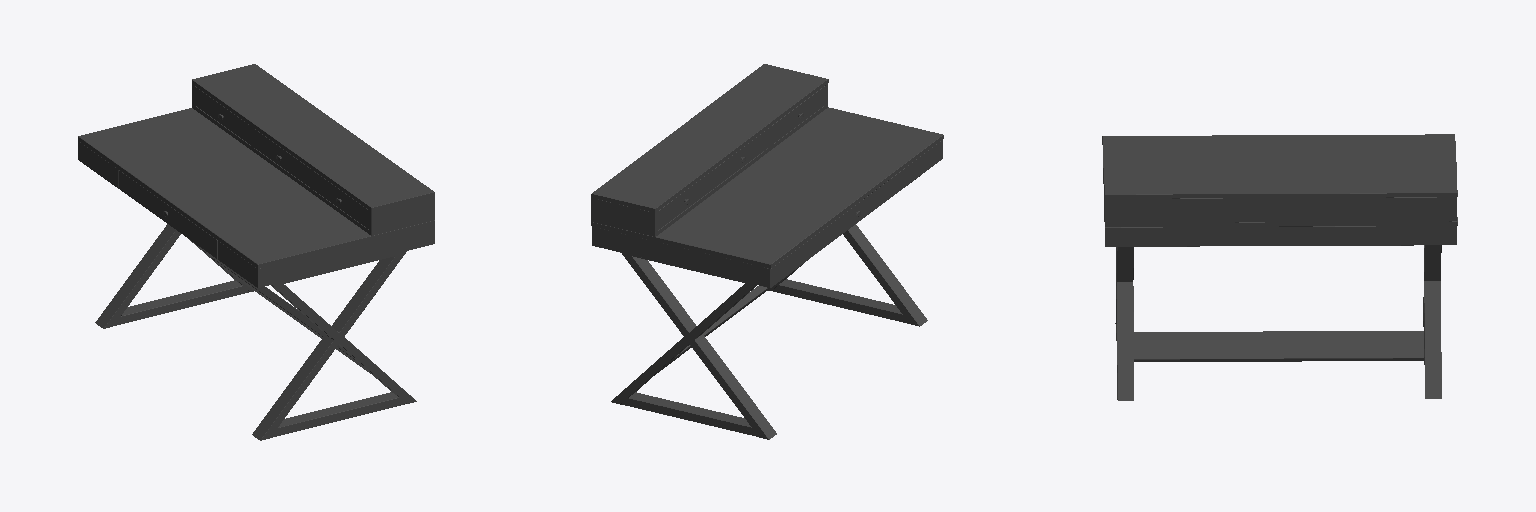
The model's file is desk.obj.
The picture shows the model from 3 angles: view 1: azimuth 30°, elevation 25°; view 2: azimuth 150°, elevation 25°; view 3: azimuth 270°, elevation 25°; orthographic projection.
Visible parts, largest first — view 1: desk; view 2: desk; view 3: desk.
Boxes of the visible parts, x1,y1,x2,y2 form: desk: [78, 64, 434, 440]; desk: [591, 64, 943, 439]; desk: [1102, 134, 1457, 400].
Size of the model in its own units: 78.92 by 87.31 by 133.